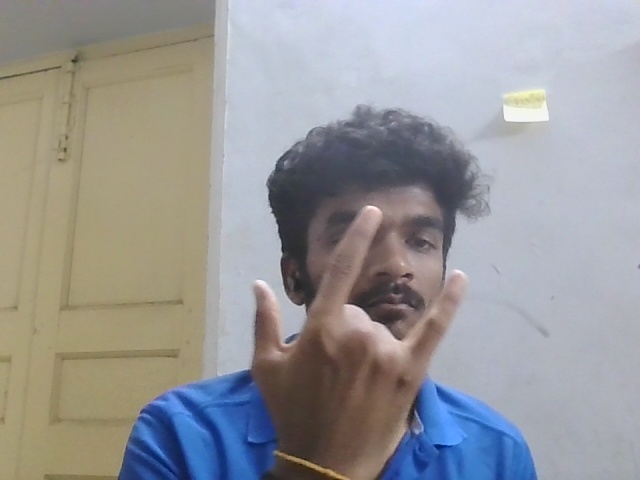Iloveyou: (237, 189, 479, 478)
